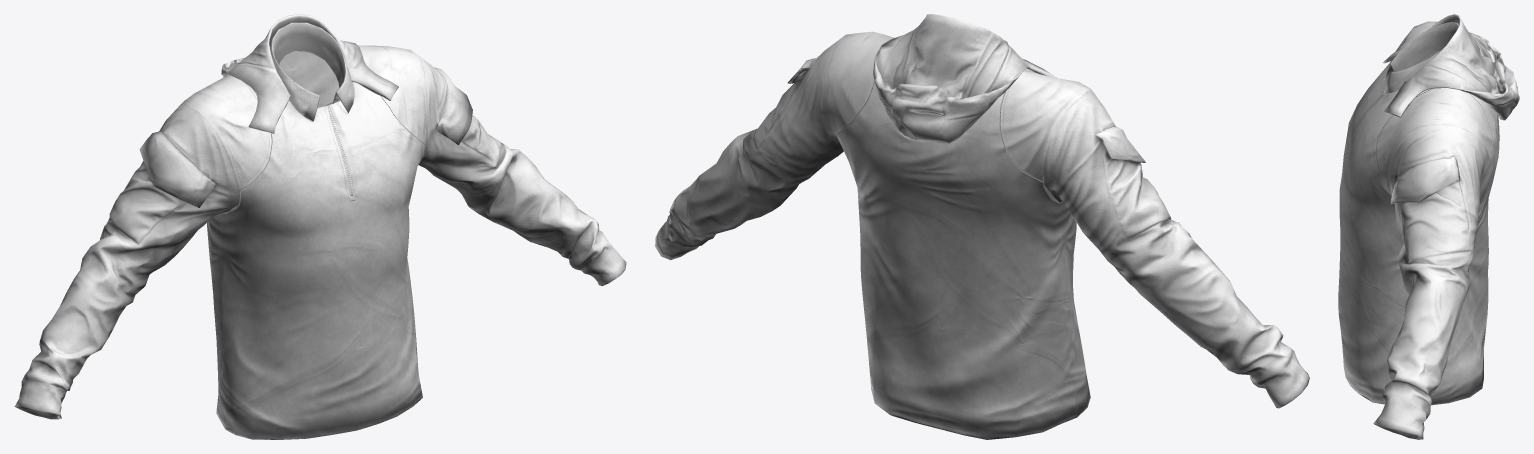
File: sweater.glb
3 renders of one model, left to right at view 1: azimuth 30°, elevation 25°; view 2: azimuth 150°, elevation 25°; view 3: azimuth 270°, elevation 25°, orthographic. The views are drawn at different scales.
Parts seen in each view (by area): view 1: Sweater; view 2: Sweater; view 3: Sweater.
Boxes of the visible parts, x1,y1,x2,y2 form: Sweater: [14, 14, 626, 439]; Sweater: [655, 14, 1309, 439]; Sweater: [1338, 14, 1519, 439].
Bounding box in the file's own units: 3.01 × 1.79 × 0.8412.
1 material, 1 textured.
